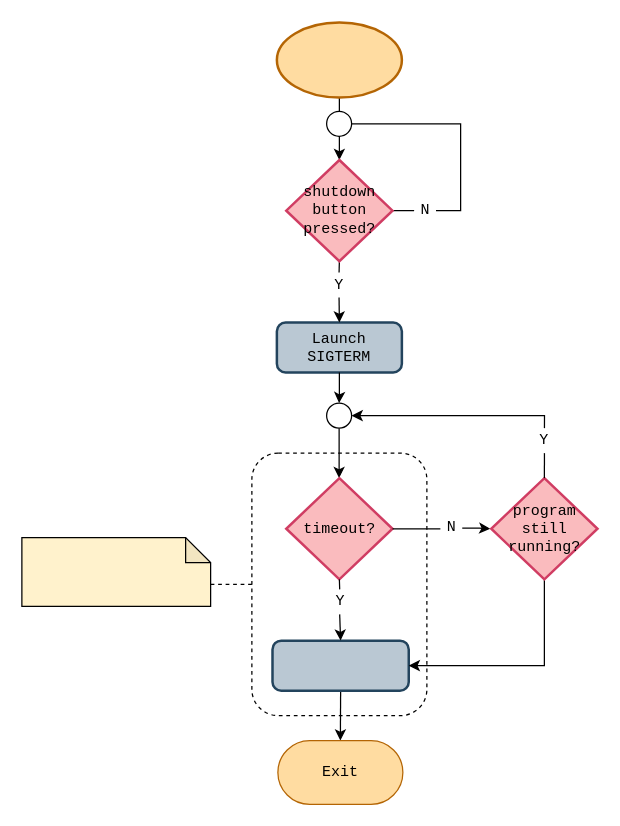
This 620x826 diagram has some shape labels left out. Here are the shapes that lost their labels. From the top down, the centre of each, then its label:
At [338,59]: "Start".
At [116,571]: "brute force shutdown".
At [340,665]: "Set CLR to zero".
